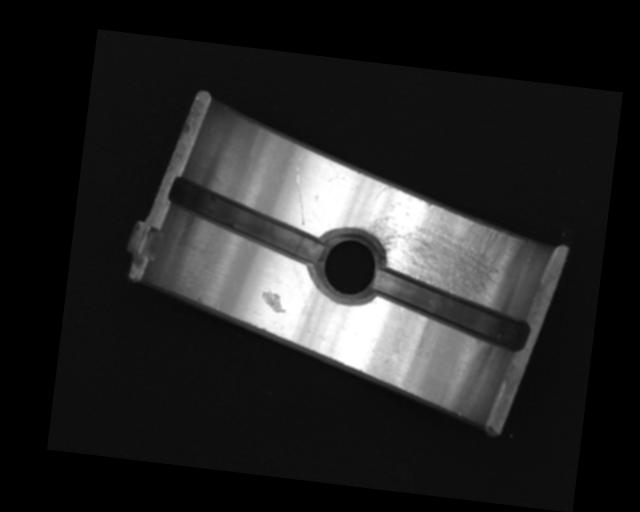bruise: (258, 288, 288, 314)
gap: (163, 177, 328, 267), (367, 269, 534, 354)
hole: (309, 223, 388, 308)
nick: (289, 165, 312, 226)
scratch: (358, 185, 527, 315)
